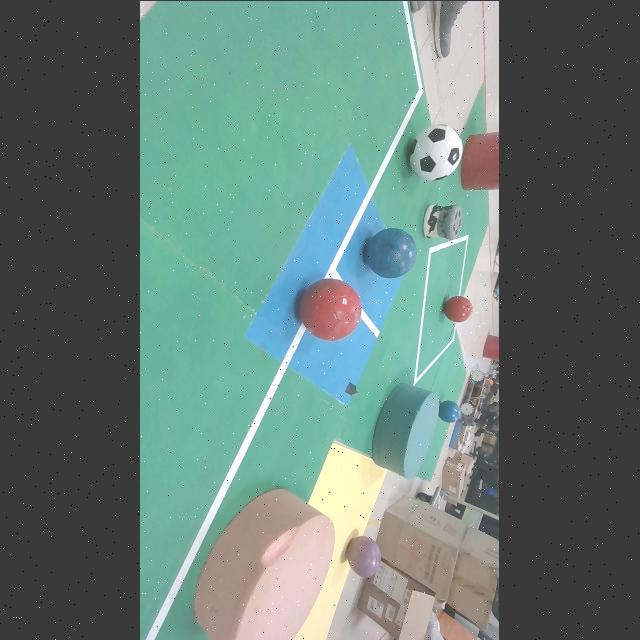B: (364, 228, 416, 278), (440, 399, 462, 421)
P: (347, 535, 382, 576)
R: (299, 278, 363, 340), (445, 295, 473, 321)
